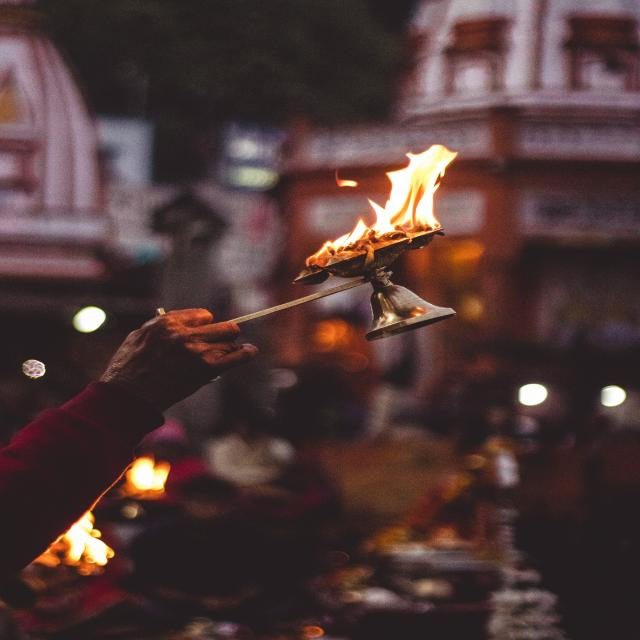fire: (309, 131, 461, 260)
